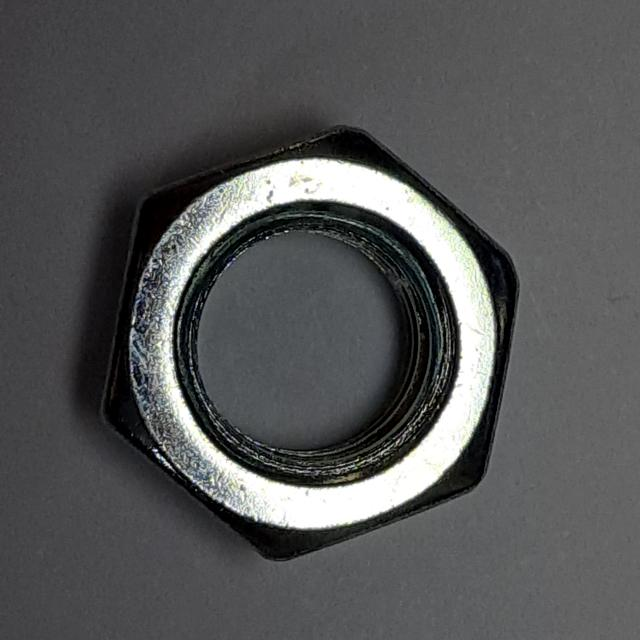Excellent: (87, 117, 530, 576)
